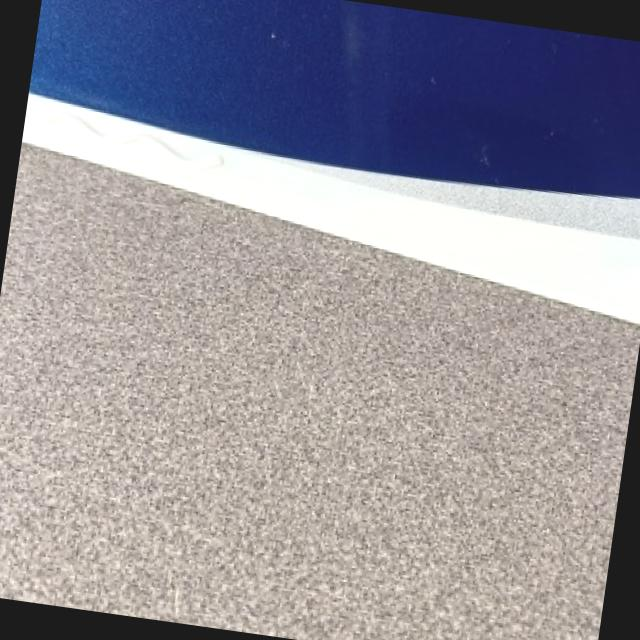healthy: (0, 0, 640, 640), (28, 0, 640, 319)
